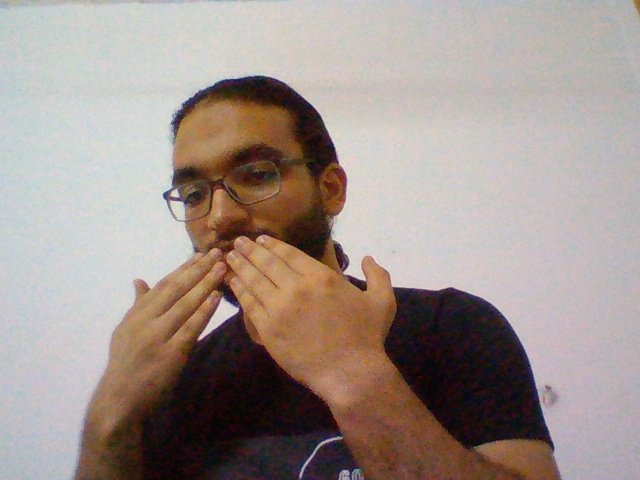Thanks: (90, 233, 410, 415)
